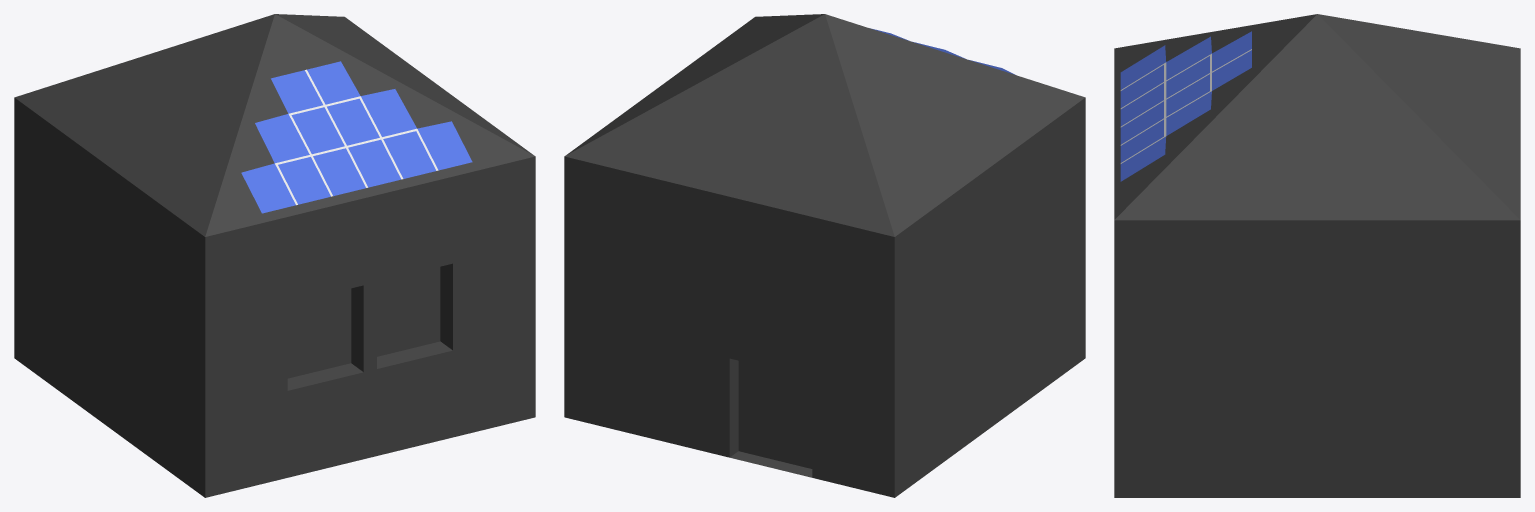
File: house_02.fbx
The picture shows the model from 3 angles, left to right: view 1: azimuth 30°, elevation 25°; view 2: azimuth 150°, elevation 25°; view 3: azimuth 270°, elevation 25°; orthographic projection. The views are drawn at different scales.
Parts seen in each view (by area): view 1: HouseModel, HouseSolar; view 2: HouseModel; view 3: HouseModel, HouseSolar.
Boxes of the visible parts, x1,y1,x2,y2 form: HouseModel: [14, 14, 535, 497]; HouseSolar: [241, 61, 472, 213]; HouseModel: [564, 14, 1085, 497]; HouseModel: [1114, 14, 1520, 497]; HouseSolar: [1120, 31, 1251, 181].
Size of the model in its own units: 12.42 by 13.43 by 12.42.
